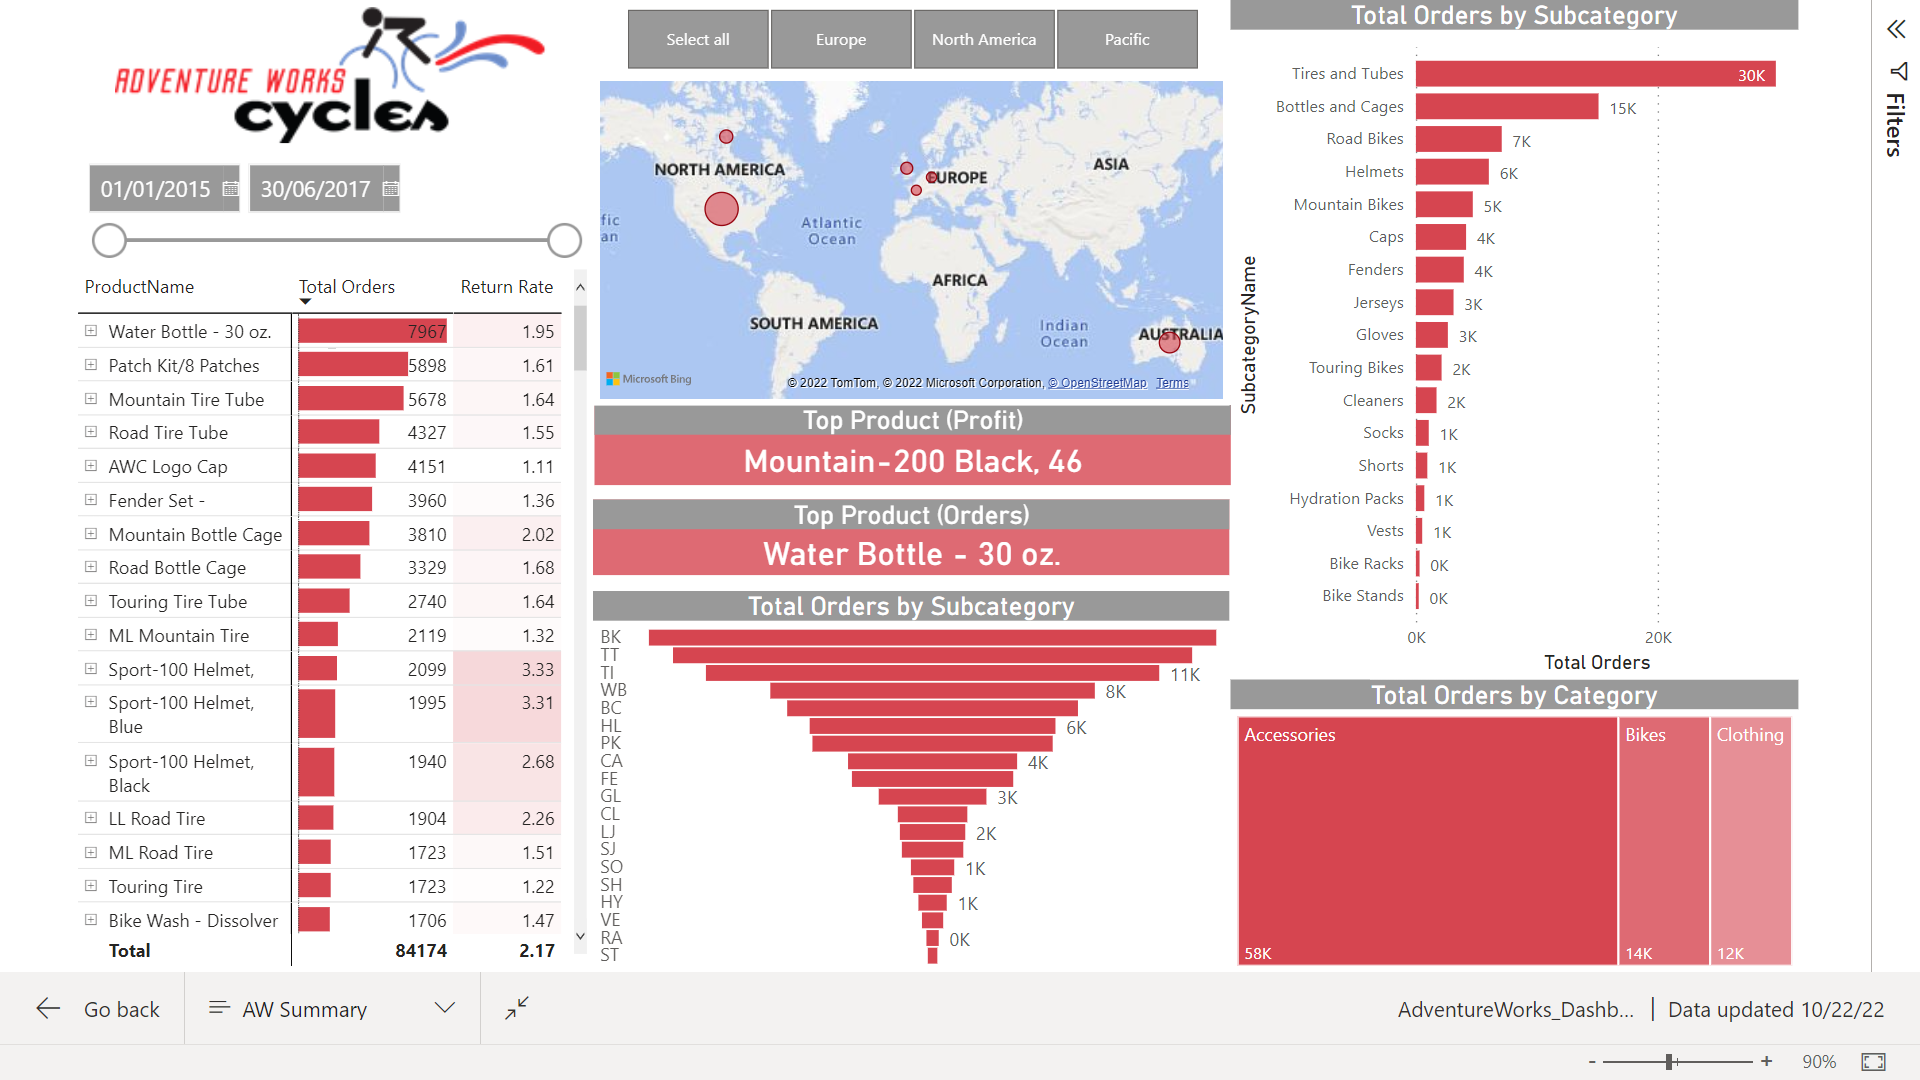

The page's visual inventory and layout, read from the dashboard file:
{"tool":"powerbi","page":{"name":"AW Summary","canvas":[1280,720],"ordinal":0},"visuals":[{"type":"image","box":[0,0,386.7,110.7],"z":0},{"type":"barChart","title":"Total Orders by Subcategory ","fields":{"Y":["AW_Sales.Total Orders"],"Category":["AW_Product_Subcategory_Lookup.SubcategoryName"]},"box":[859.1,0,420.7,503.2],"z":1000},{"type":"treemap","title":"Total Orders by Category ","fields":{"Group":["AW_Product_Category_Lookup.CategoryName","AW_Product_Subcategory_Lookup.SubcategoryName"],"Values":["AW_Sales.Total Orders"]},"box":[859.1,503.2,420.7,216.8],"z":2000},{"type":"pivotTable","title":"Product Orders and Return Rate","fields":{"Values":["AW_Sales.Total Orders","AW_Returns.Return Rate"],"Rows":["AW_Product_Lookup.ProductName","AW_Product_Category_Lookup.CategoryName","AW_Product_Subcategory_Lookup.SubcategoryName"]},"box":[0,194.1,386.7,526.3],"z":3000},{"type":"slicer","fields":{"Values":["AW_Calendar_Lookup.Date"]},"box":[0,110.7,386.7,83.4],"z":4000},{"type":"funnel","title":"Total Orders by Subcategory ","fields":{"Category":["AW_Product_Lookup.SKU Category"],"Y":["AW_Sales.Total Orders"]},"box":[386.7,438.3,471.7,282.1],"z":5000},{"type":"card","title":"Top Product (Orders)","fields":{"Values":["Min(AW_Product_Lookup.ProductName)"]},"box":[386.7,370,471.7,56.1],"z":6000},{"type":"card","title":"Top Product (Profit)","fields":{"Values":["Min(AW_Product_Lookup.ProductName)"]},"box":[388.2,300.3,471.7,59.1],"z":7000},{"type":"map","fields":{"Category":["AW_Territories_Lookup.Country"],"Size":["AW_Sales.Total Orders"]},"box":[386.7,54.6,471.7,245.7],"z":8000},{"type":"slicer","fields":{"Values":["AW_Territories_Lookup.Continent"]},"box":[386.7,0,471.7,57.6],"z":9000}]}

Visuals, with their boxes on the page's 1280x720 design canvas (x1, y1, x2, y2). These are canvas units, not pixel positions in the 1920x1080 screenshot, which may show the page scaled, cropped or inside an application window:
image: <box>0,0,387,111</box>
"Total Orders by Subcategory " barChart: <box>859,0,1280,503</box>
"Total Orders by Category " treemap: <box>859,503,1280,720</box>
"Product Orders and Return Rate" pivotTable: <box>0,194,387,720</box>
slicer - AW_Calendar_Lookup.Date: <box>0,111,387,194</box>
"Total Orders by Subcategory " funnel: <box>387,438,858,720</box>
"Top Product (Orders)" card: <box>387,370,858,426</box>
"Top Product (Profit)" card: <box>388,300,860,359</box>
map - AW_Territories_Lookup.Country x AW_Sales.Total Orders: <box>387,55,858,300</box>
slicer - AW_Territories_Lookup.Continent: <box>387,0,858,58</box>
